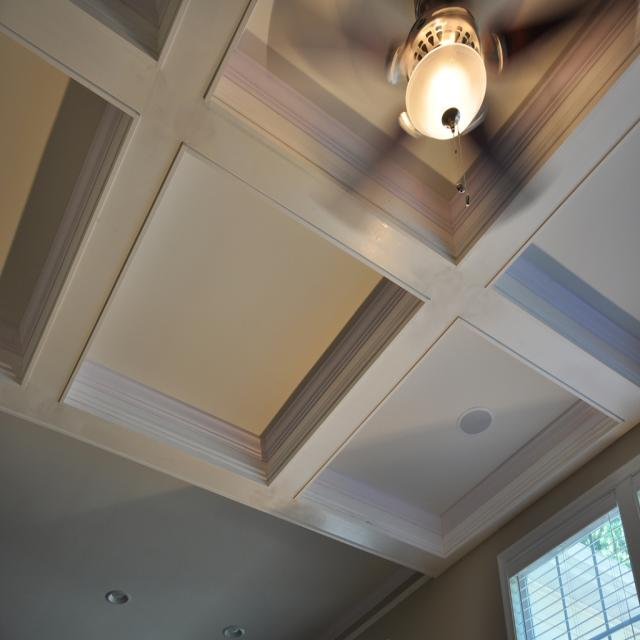Bulb: (265, 0, 637, 253)
